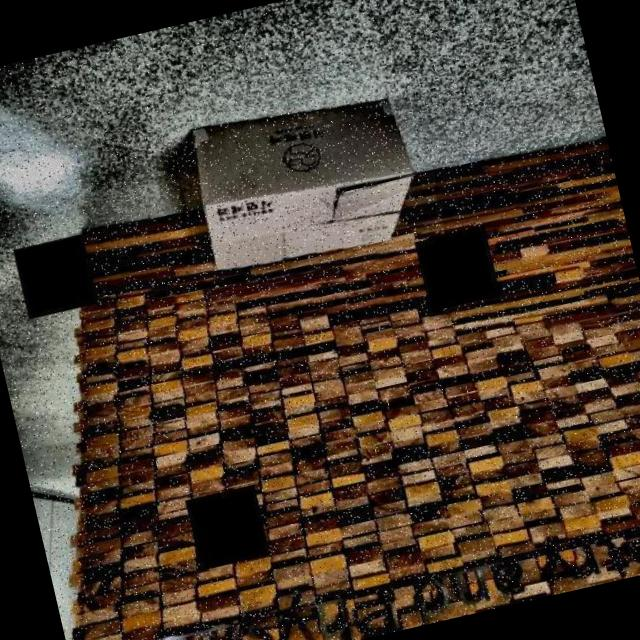box: (168, 74, 447, 299)
